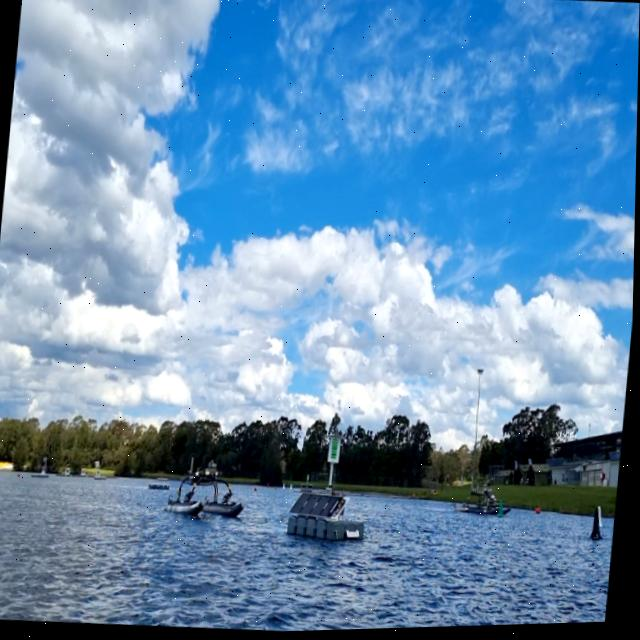led: (331, 439, 342, 464)
